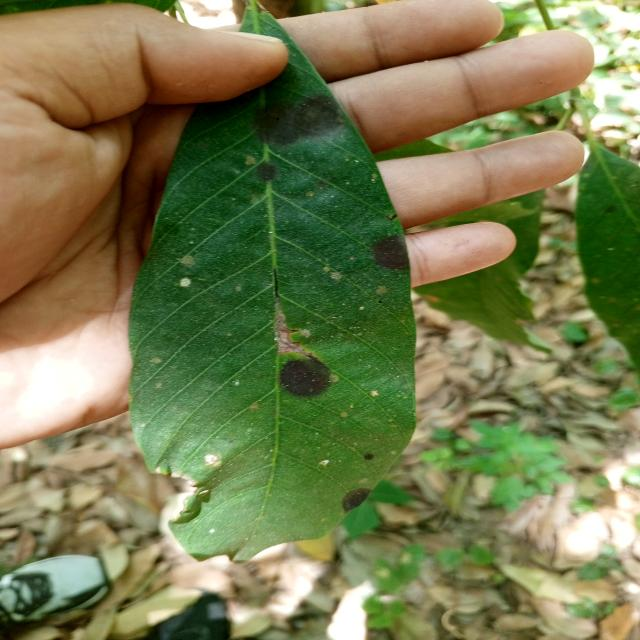Corynespora: (276, 302, 320, 363)
